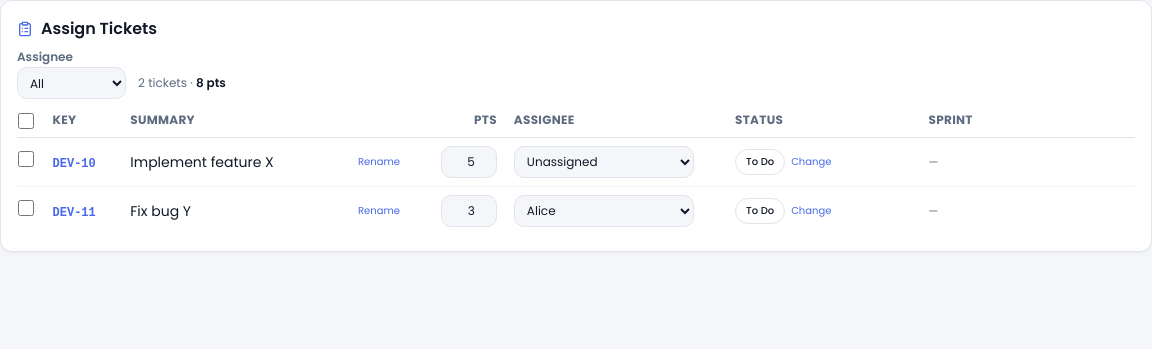
Test: AssignmentList — v1.37 bulk assign › select-all checks every visible ticket
The image size is (1152, 349).
Click the checkbox named "Select all tickets". click: (26, 121)
box: x1=18 y1=113 x2=34 y2=129
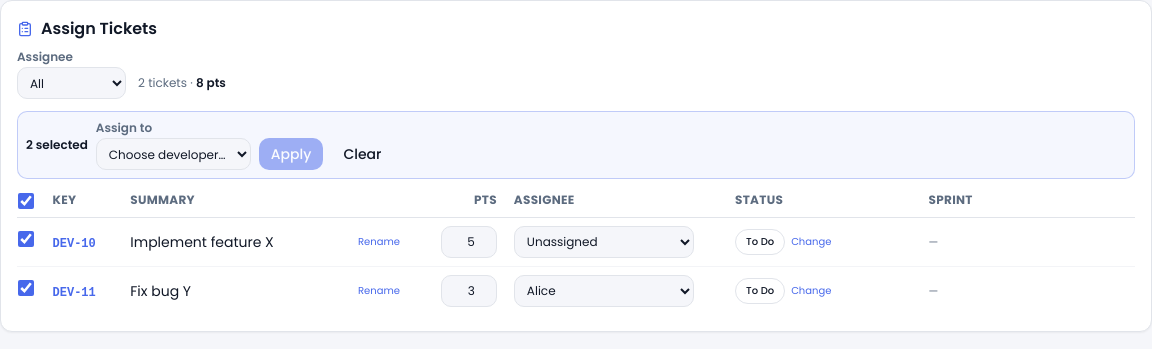
Expected: the text "2 selected" is shown, x1=26 y1=137 x2=88 y2=153
Expected: the checkbox named "Select DEV-10" is checked, x1=18 y1=231 x2=34 y2=247
Expected: the checkbox named "Select DEV-11" is checked, x1=18 y1=280 x2=34 y2=296
